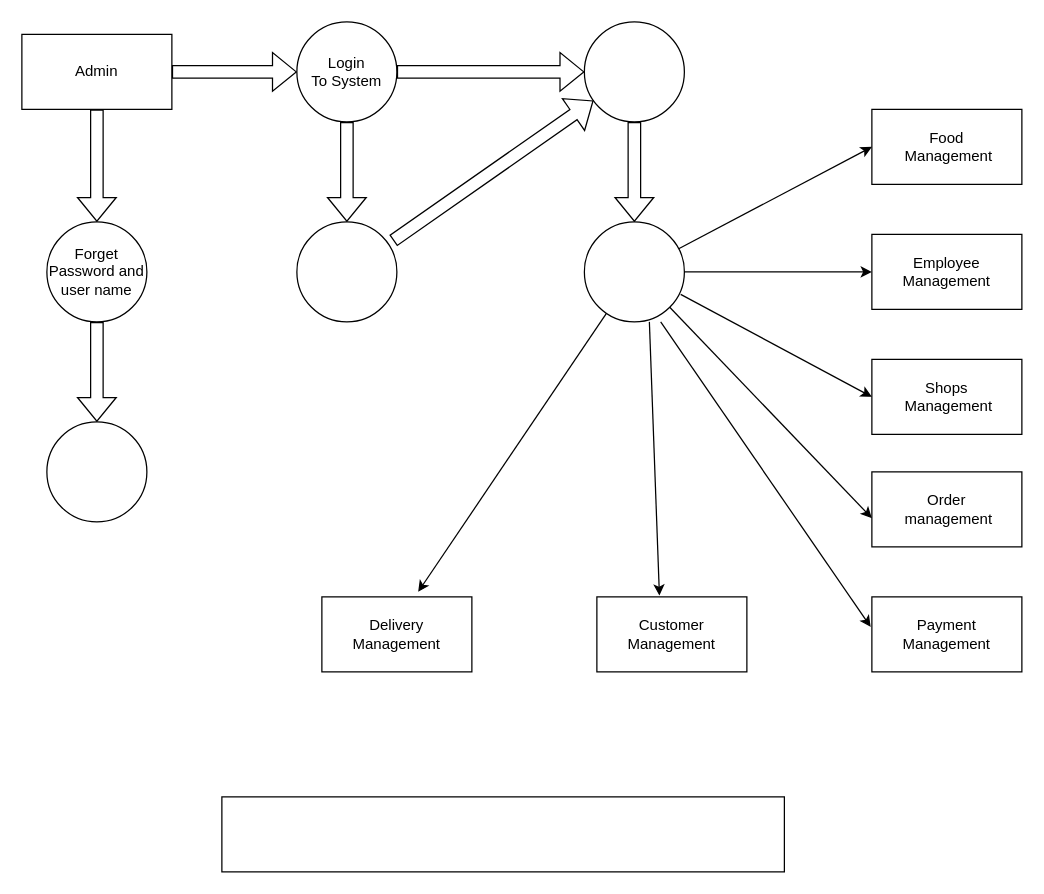
The diagram is 1044 pixels wide and 894 high, and some of its shapes have lost their labels. Each missing label, with the centre of its shape:
Architecture Diagram of Online Food Ordering System (Canteen Management System): pixel 502 834
Check Credential: pixel 346 271
Check Roles of Access: pixel 633 71
Manage Modules: pixel 633 271
Send Notification To user: pixel 96 471
